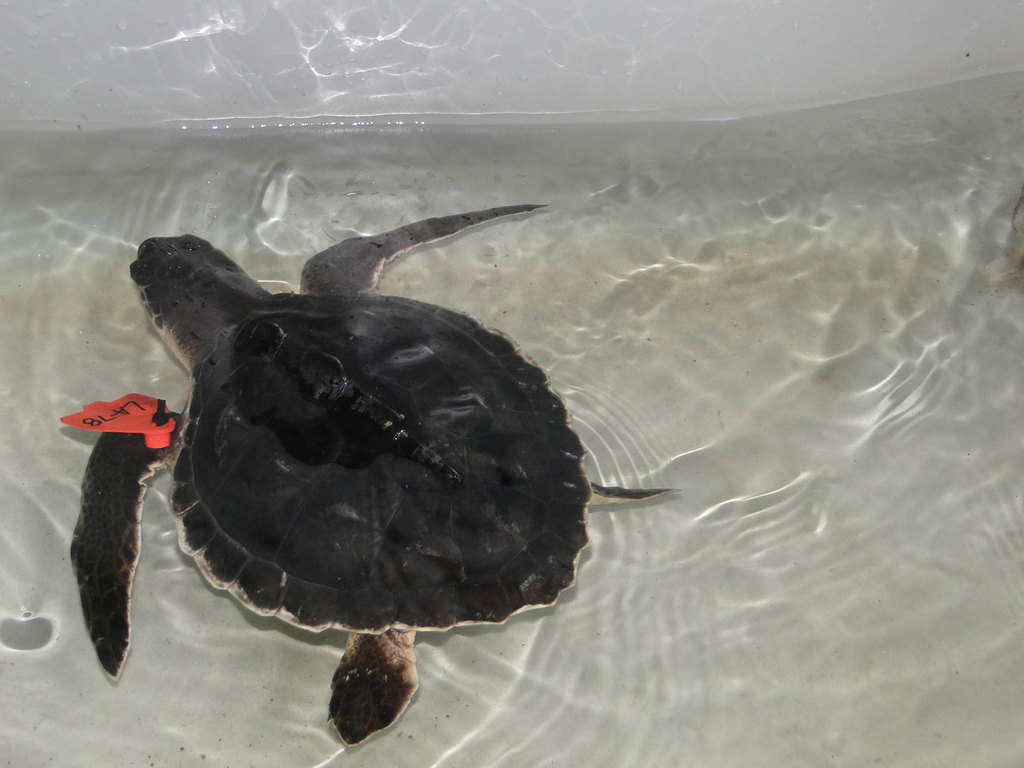Sea turtles: (65, 195, 677, 752)
